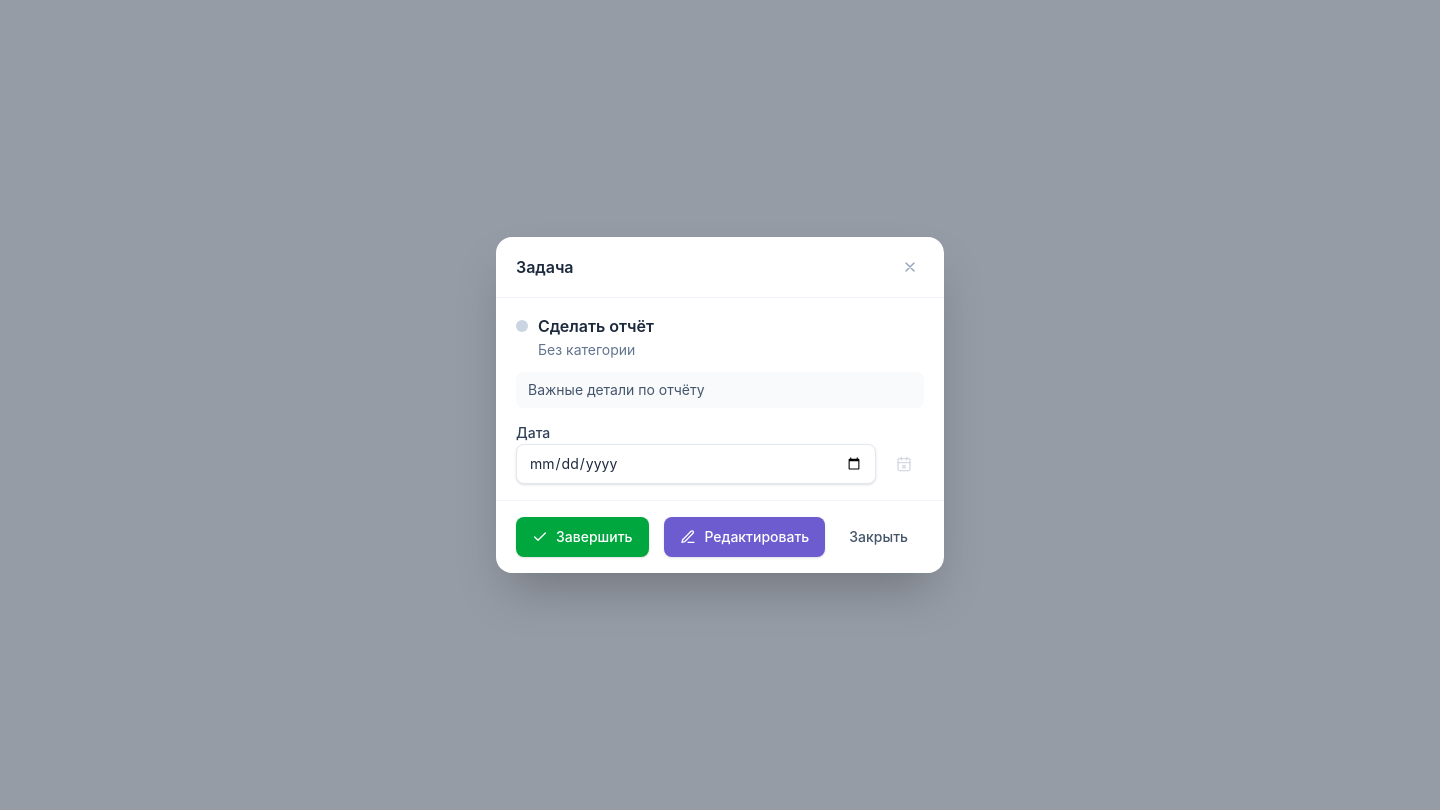
Test: EntityDialog — задача › отмена в режиме редактирования возвращает к превью без сохранения
Click the button "Редактировать" at (745, 537), box top-left (664, 517), bottom-right (825, 557)
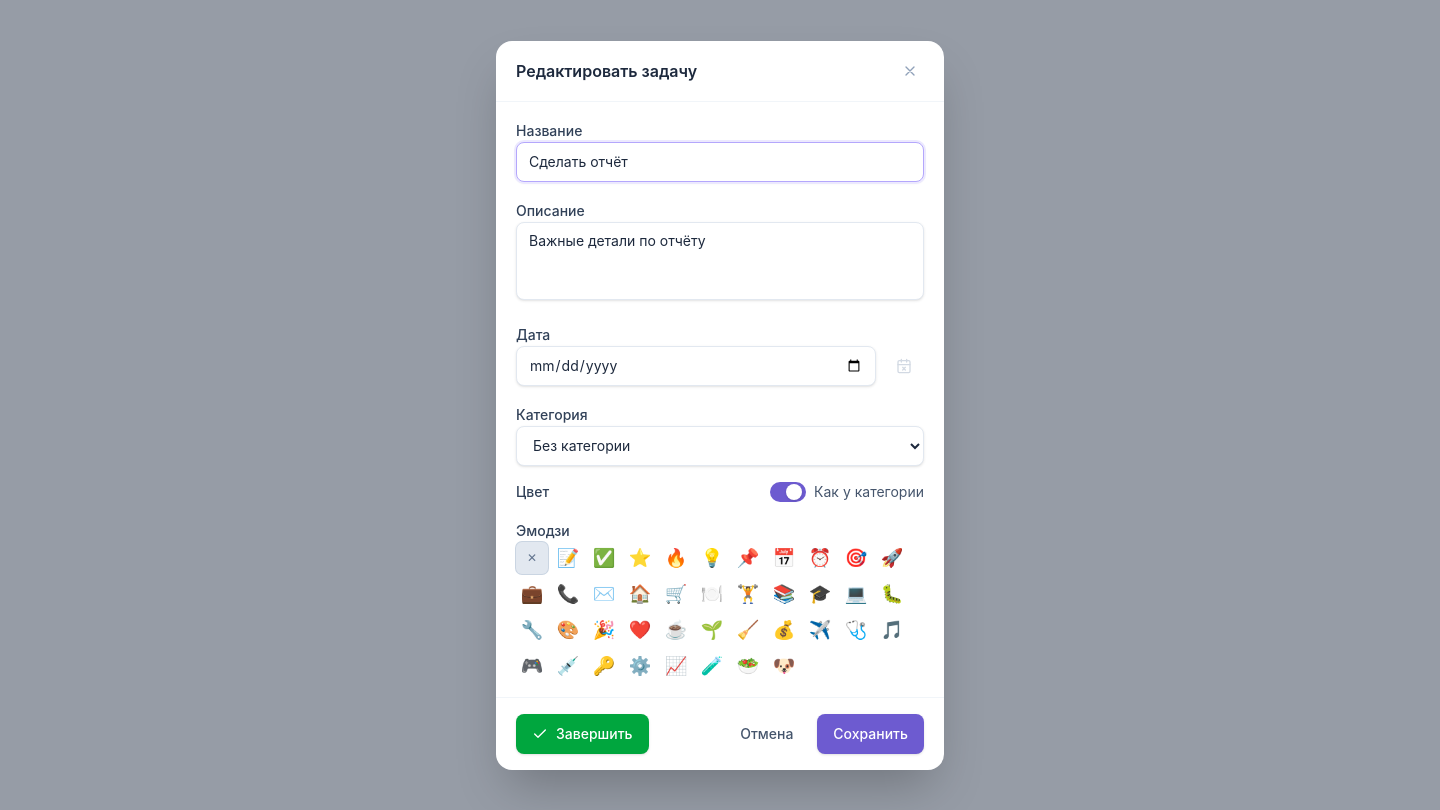
Replace the text in the field with placeholder "Что нужно сделать?" with "Черновое название" at (720, 162), box top-left (516, 142), bottom-right (924, 182)
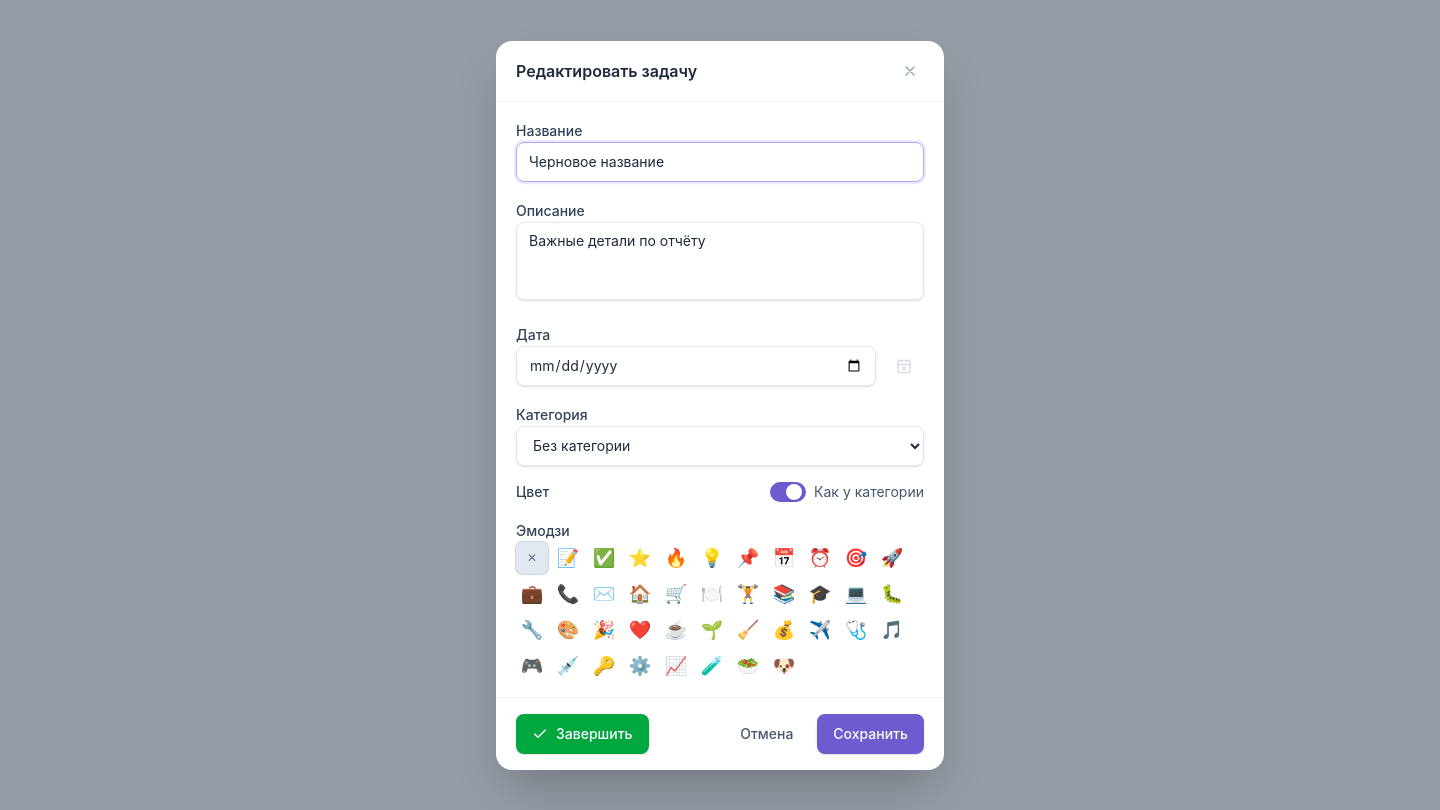
Click the button "Отмена" at (767, 734), box top-left (724, 714), bottom-right (809, 754)
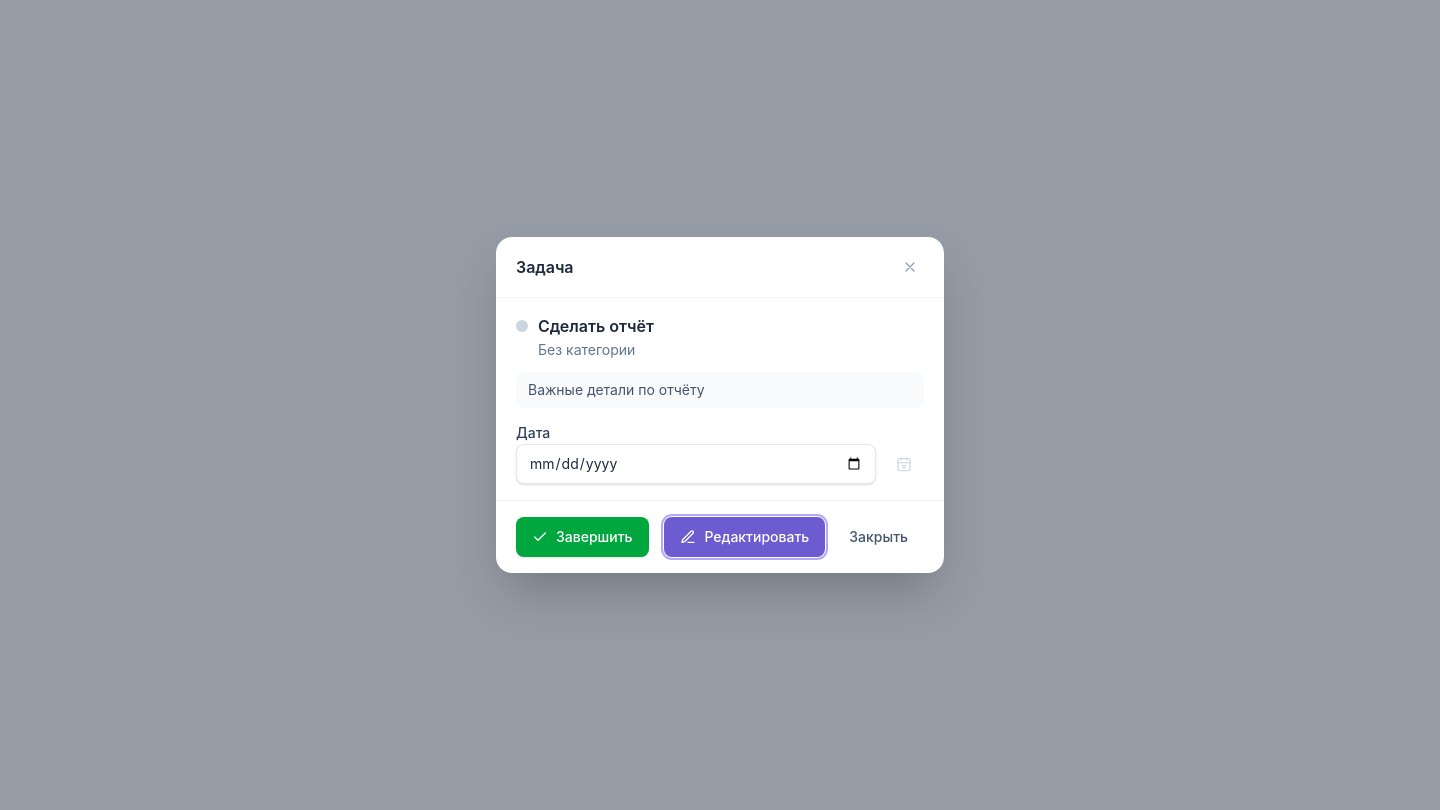
Expected: the button "Редактировать" is shown, top-left (664, 517), bottom-right (825, 557)
Expected: the text "Сделать отчёт" is shown, top-left (538, 314), bottom-right (654, 338)
